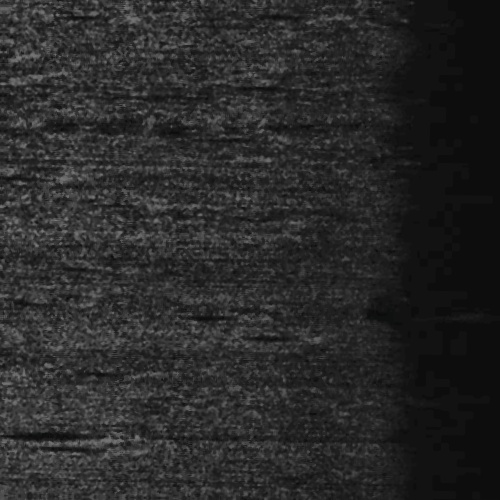object: (81, 431, 154, 440), (0, 371, 19, 376)
shadow: (9, 431, 117, 440)
